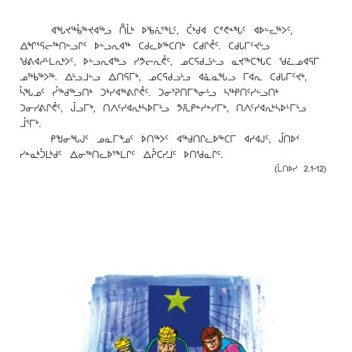inuktitut: (18, 53, 320, 68), (18, 82, 279, 99), (18, 101, 307, 114), (49, 21, 294, 36), (18, 69, 307, 81), (49, 131, 303, 144), (18, 38, 271, 51), (17, 145, 224, 160)
